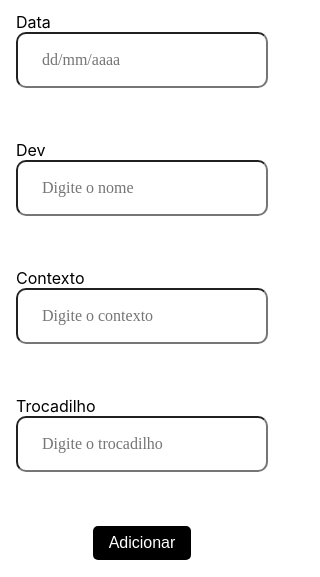
Scenario: PunAdd › does not submit the form when required fields are empty
Click the button: (142, 543) [93,526,191,560]
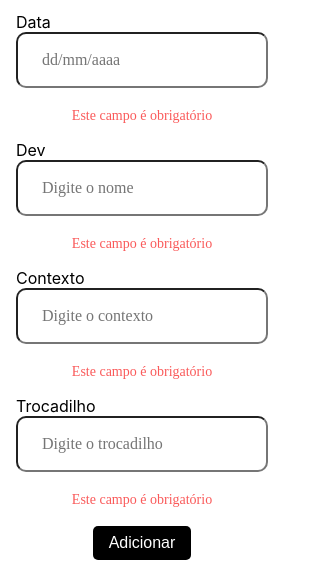
expect the text "Este campo é obrigatório" is shown 4 times: met, box [72,108,212,124]; [72,236,212,252]; [72,364,212,380]; [72,492,212,508]
